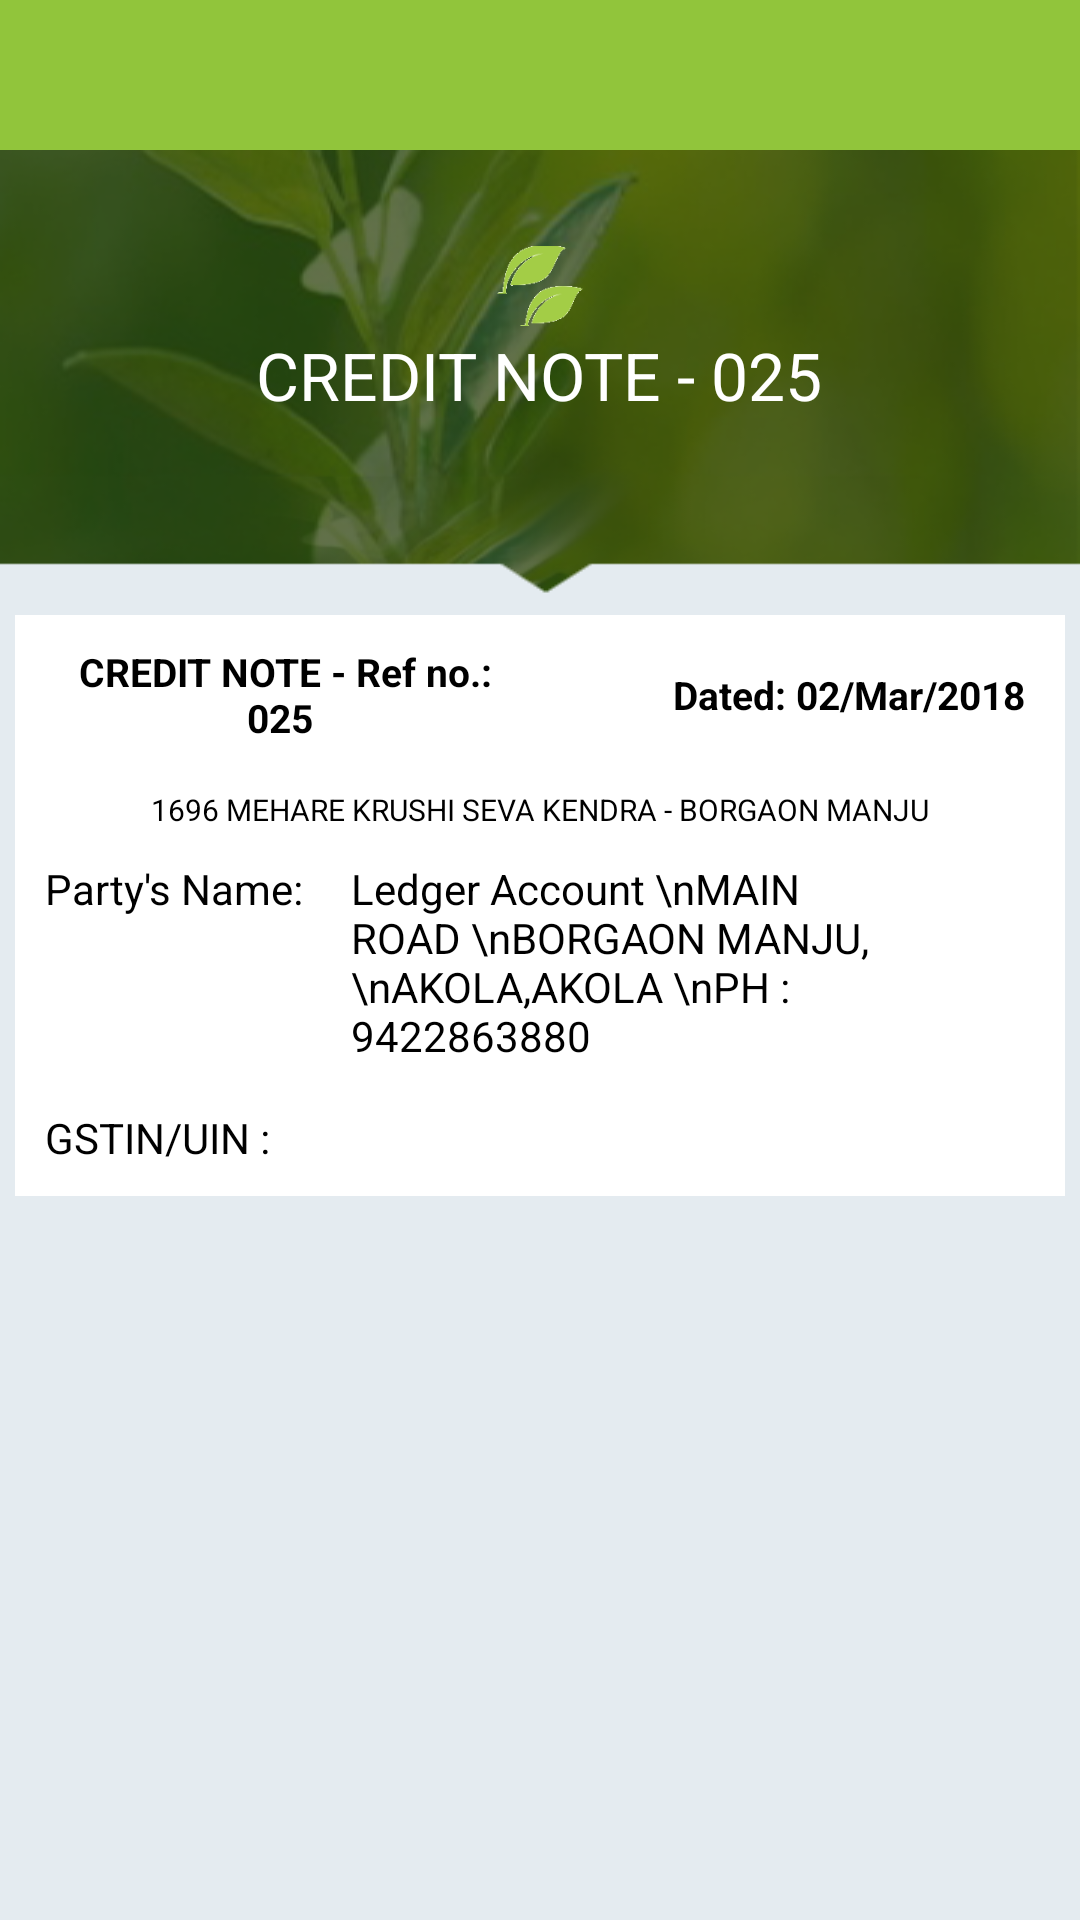

Named icons in this screenshot (1080 x 1920) and their centers, point (x, y):
page nameleaf: point (540, 286)
